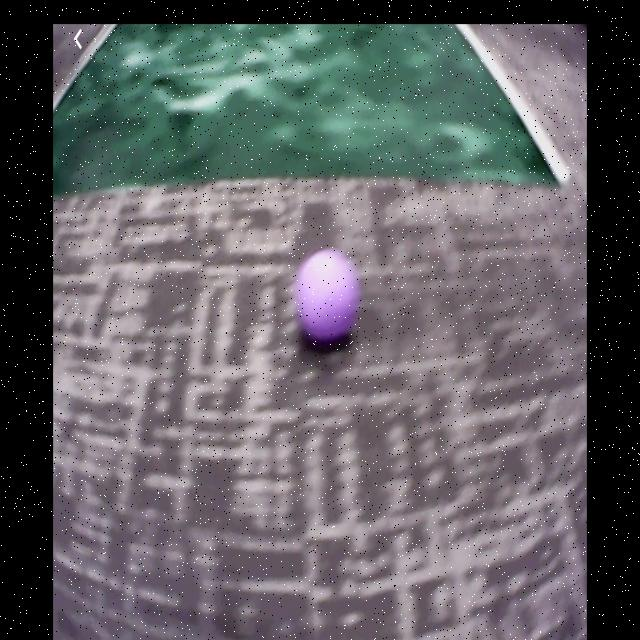ball: (298, 248, 361, 338)
